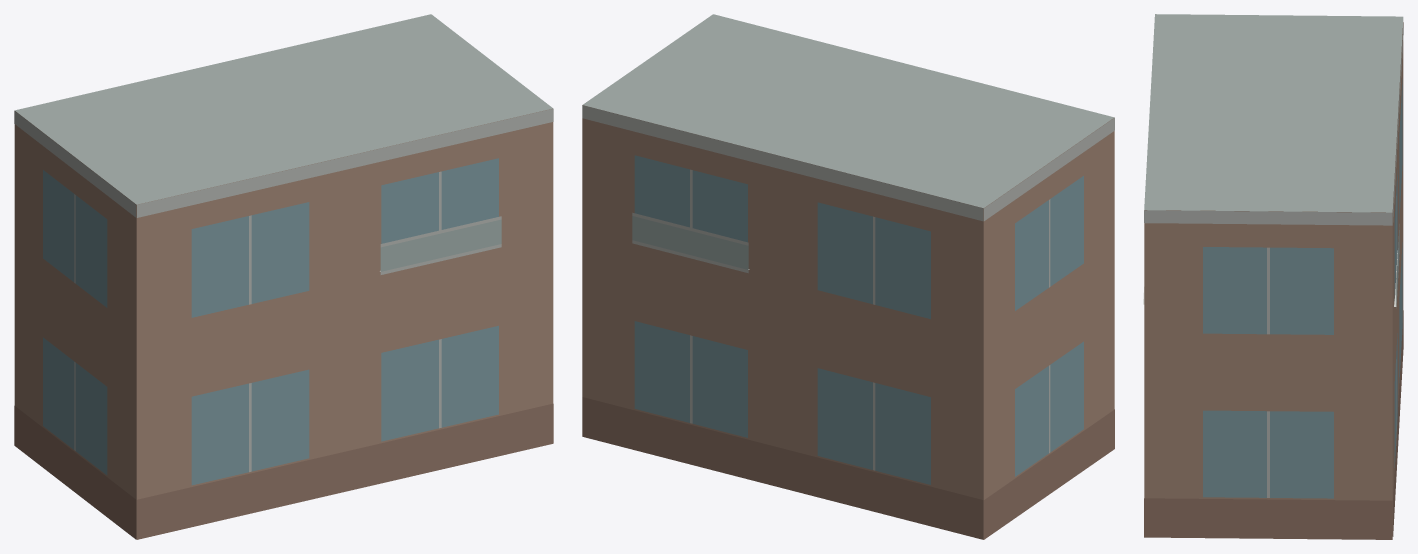
The model's file is survey-upis-32505806.glb.
The picture shows the model from 3 angles, left to right: view 1: azimuth 30°, elevation 25°; view 2: azimuth 150°, elevation 25°; view 3: azimuth 270°, elevation 25°; orthographic projection. The views are drawn at different scales.
Parts seen in each view (by area): view 1: survey-upis-32505806.tmp; view 2: survey-upis-32505806.tmp; view 3: survey-upis-32505806.tmp.
Boxes of the visible parts, left/top/right/bottom form: survey-upis-32505806.tmp: left=14, top=14, right=553, bottom=539; survey-upis-32505806.tmp: left=582, top=14, right=1114, bottom=539; survey-upis-32505806.tmp: left=1143, top=14, right=1403, bottom=539.
Size of the model in its own units: 7.94 by 6.1 by 4.4.
